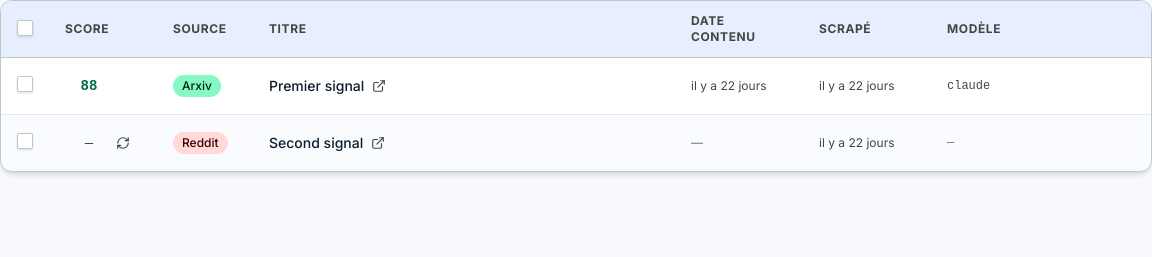
Scenario: SignalTable › select-all sélectionne toutes les rows affichées
The width and height of the screenshot is (1152, 257).
Click the checkbox named "sélectionner tous les signaux". click: (25, 28)
box: [17,20,33,36]
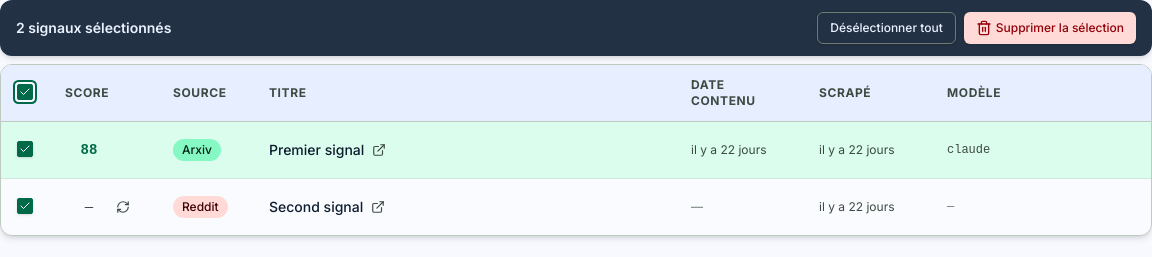
Expected: the number of checkboxes named "sélectionner le signal" is 2, [17,141,33,157]; [17,198,33,214]
Expected: the text "2 signaux sélectionnés" is shown, [16,18,171,38]
